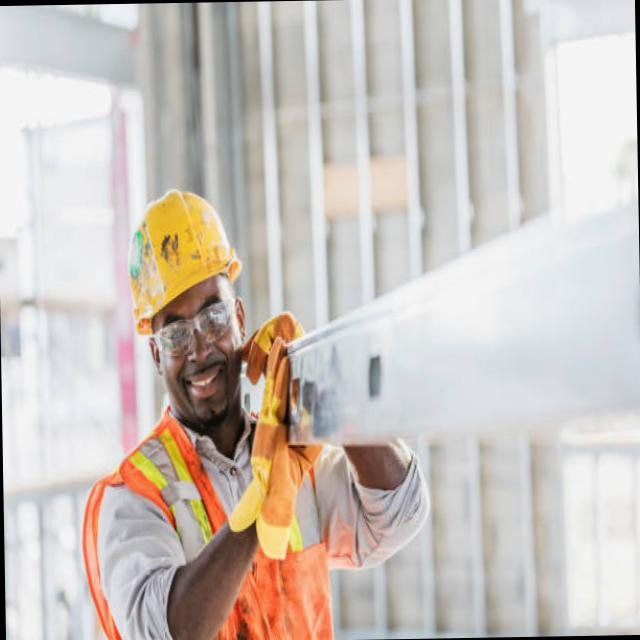goggles: (149, 286, 240, 360)
helmet: (126, 171, 244, 333)
vest: (84, 389, 336, 640)
